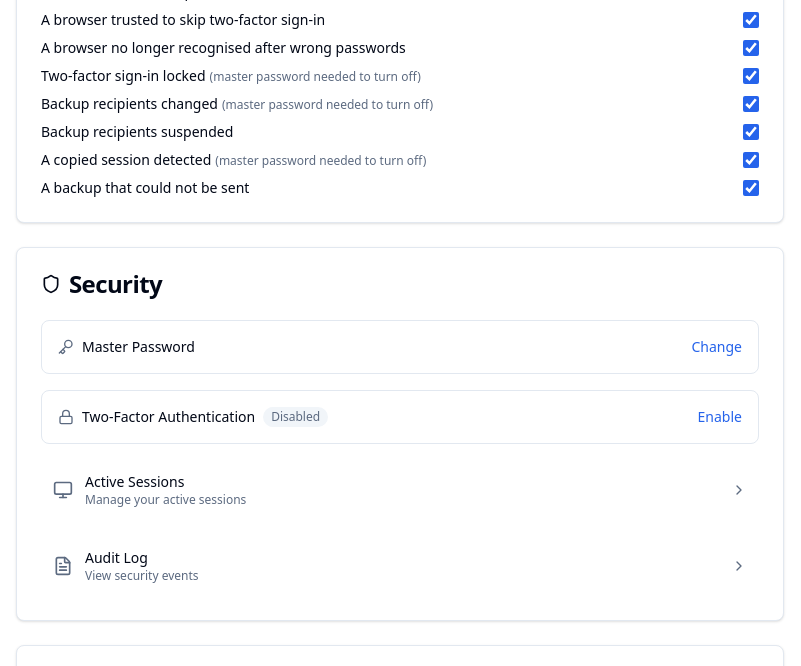
Scenario: SettingsPage › hides change password form when Cancel is clicked
The width and height of the screenshot is (801, 666).
(page scrolled)
Expected: the text "Master Password" is shown, [82,337,195,357]
What coordinates should you click on to do the following:
click the button "Change"
I would click on:
 (717, 347)
Its box is [692,337,742,357].
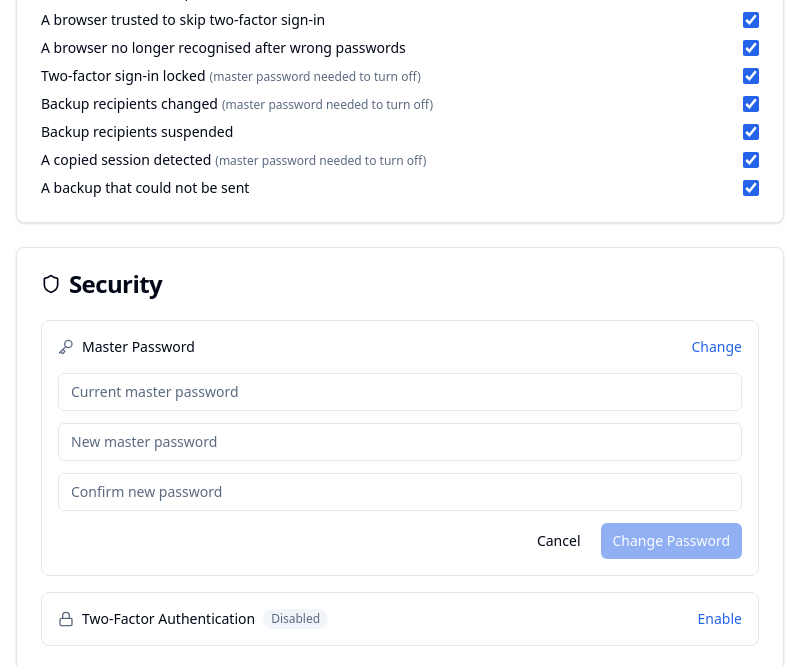
Expected: the password field with placeholder "Current master password" is shown, [58,373,742,411]
What coordinates should you click on to do the following:
click the button "Cancel"
I would click on:
 (559, 541)
Its box is [525,523,592,559].
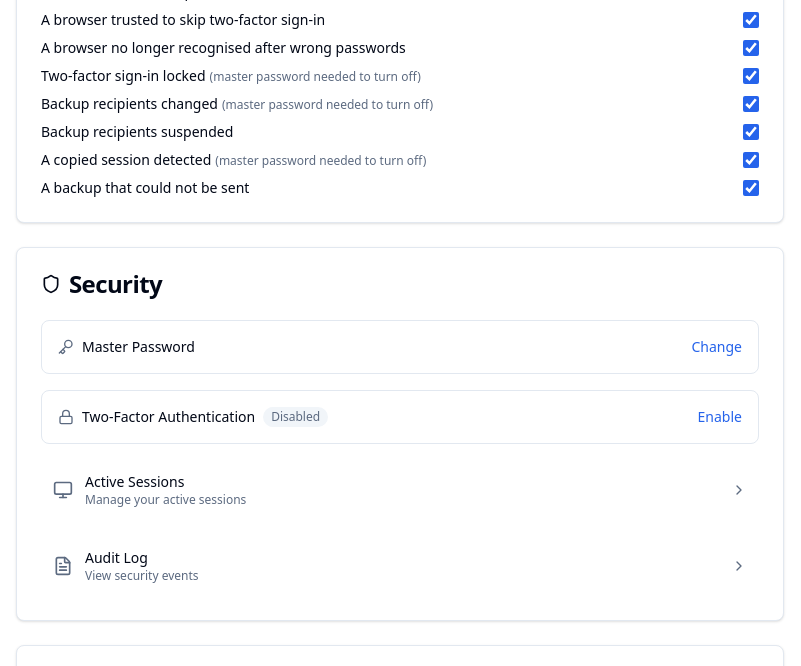
Expected: the password field with placeholder "Current master password" is gone
